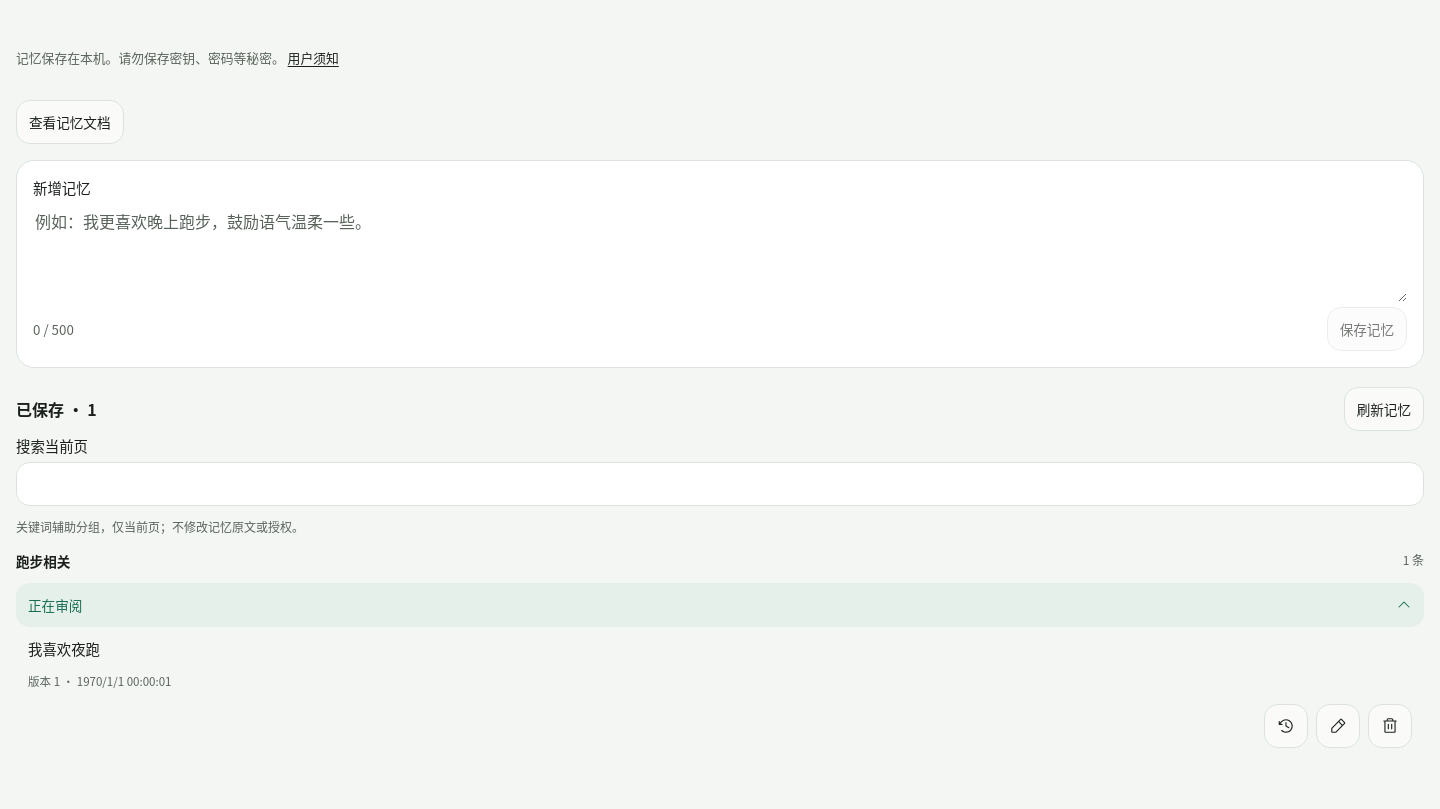
Test: 编辑带原版本，冲突保留草稿并阻止翻页或新增导致草稿丢失
Expected: the text "我喜欢夜跑" is shown, [28,638,100,659]
Click the button named "编辑记忆：我喜欢夜跑" at point(1338, 726), box [1316,704,1360,748]
(page scrolled)
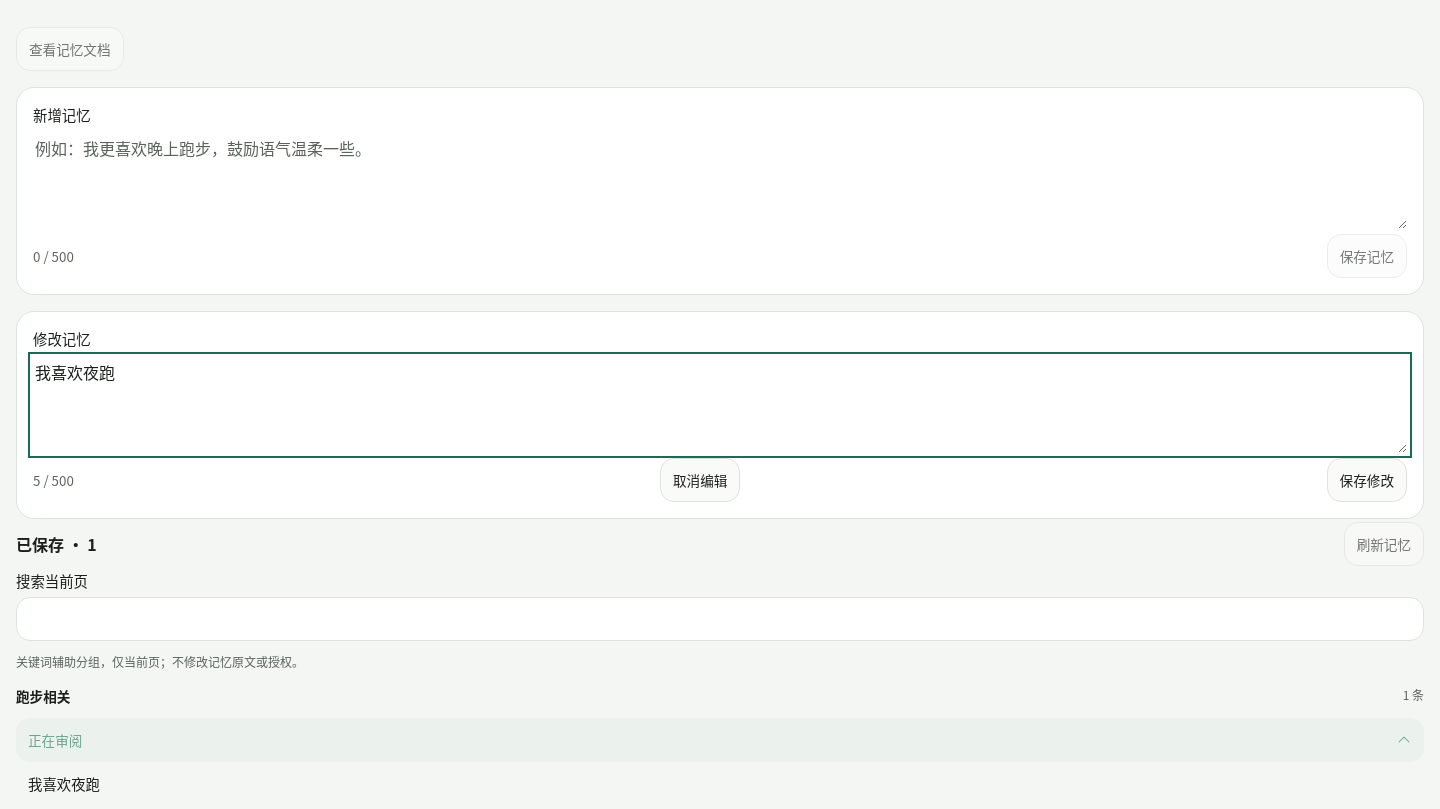
Replace the text in the text box labelled "修改记忆" with "改为晨跑" at point(720, 405), box [33,357,1407,453]
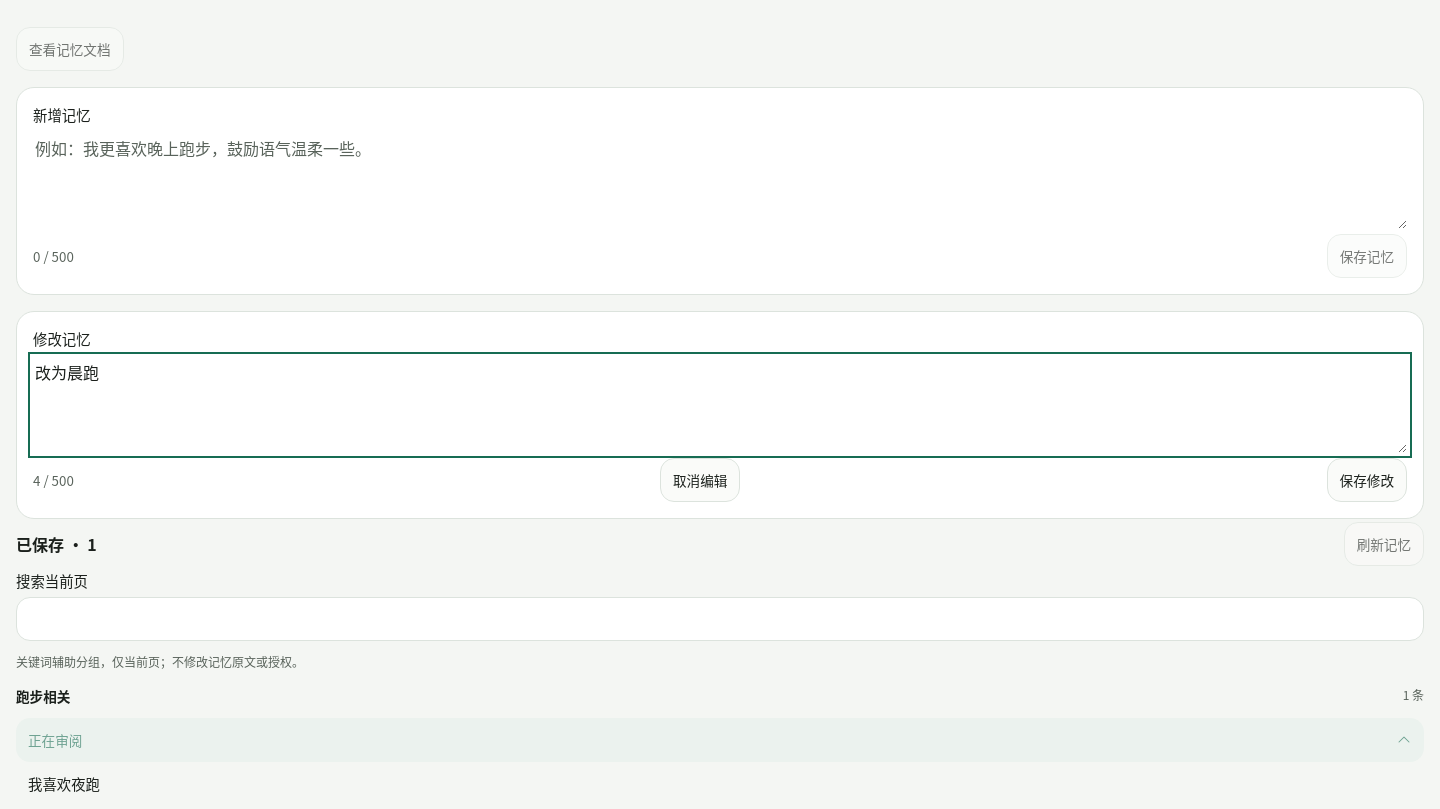
Click the button "保存修改" at point(1367, 480), box [1327,458,1407,502]
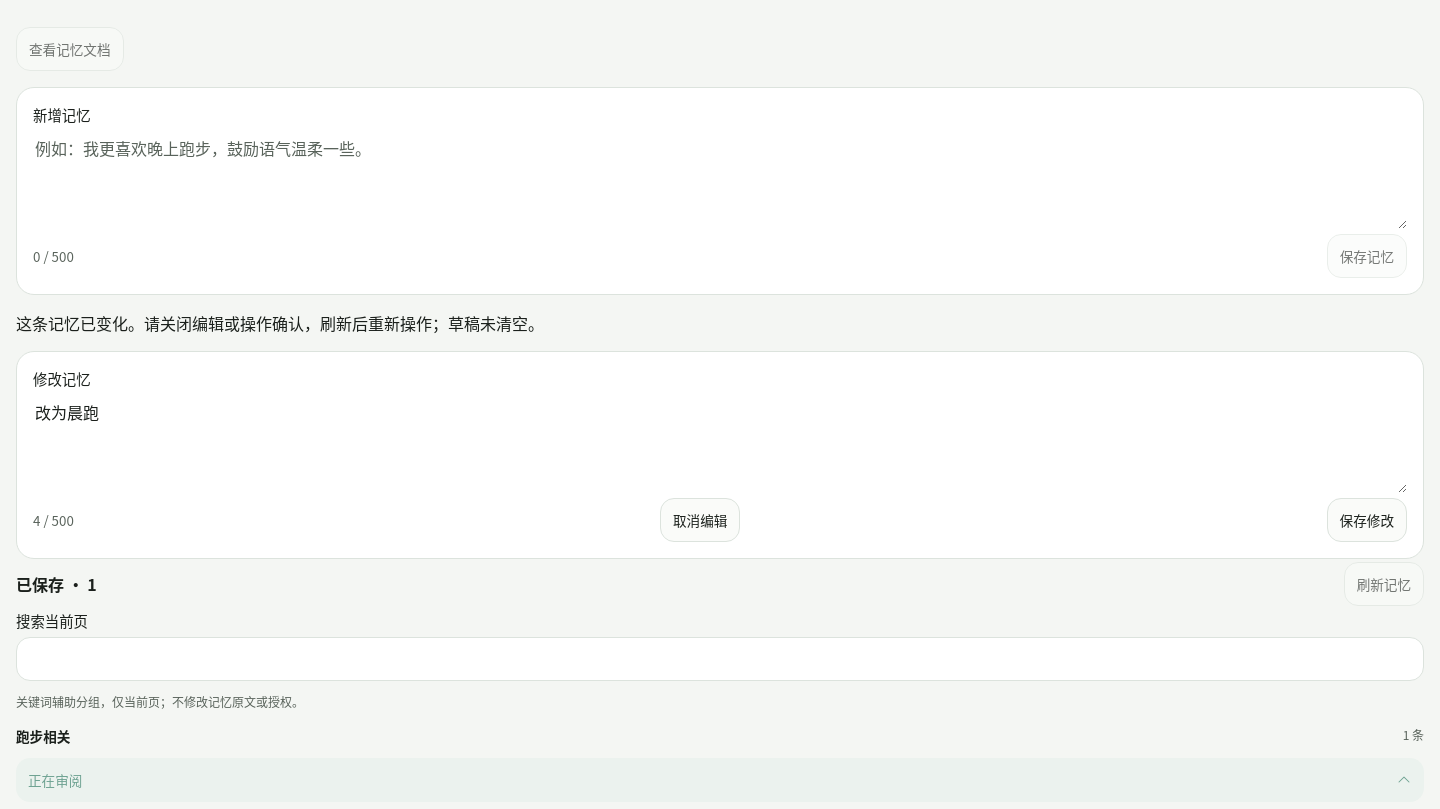
Expected: the button "保存记忆" is disabled, [1327,234,1407,278]
Expected: the button "刷新记忆" is disabled, [1344,562,1424,606]
Expected: the text "这条记忆已变化。请关闭编辑或操作确认，刷新后重新操作；草稿未清空。" is shown, [16,311,544,335]
